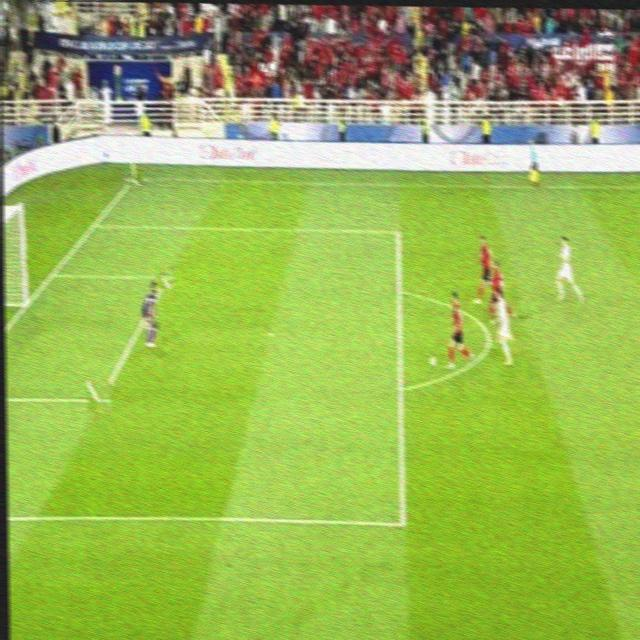bigarea_bottom_inner: (389, 506, 412, 536)
bigarea_top_inner: (389, 222, 406, 241)
bigarea_top_outter: (86, 214, 103, 232)
bottom_arc_area_intersection: (390, 377, 409, 397)
corner: (123, 169, 143, 185)
smallarea_bottom_inner: (86, 379, 111, 414)
smallarea_top_inner: (155, 265, 175, 289)
smallarea_top_outter: (43, 260, 63, 283)
top_arc_area_intersection: (391, 280, 408, 298)
